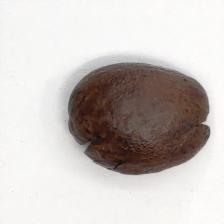NG: (78, 131, 123, 174), (191, 99, 212, 139)
